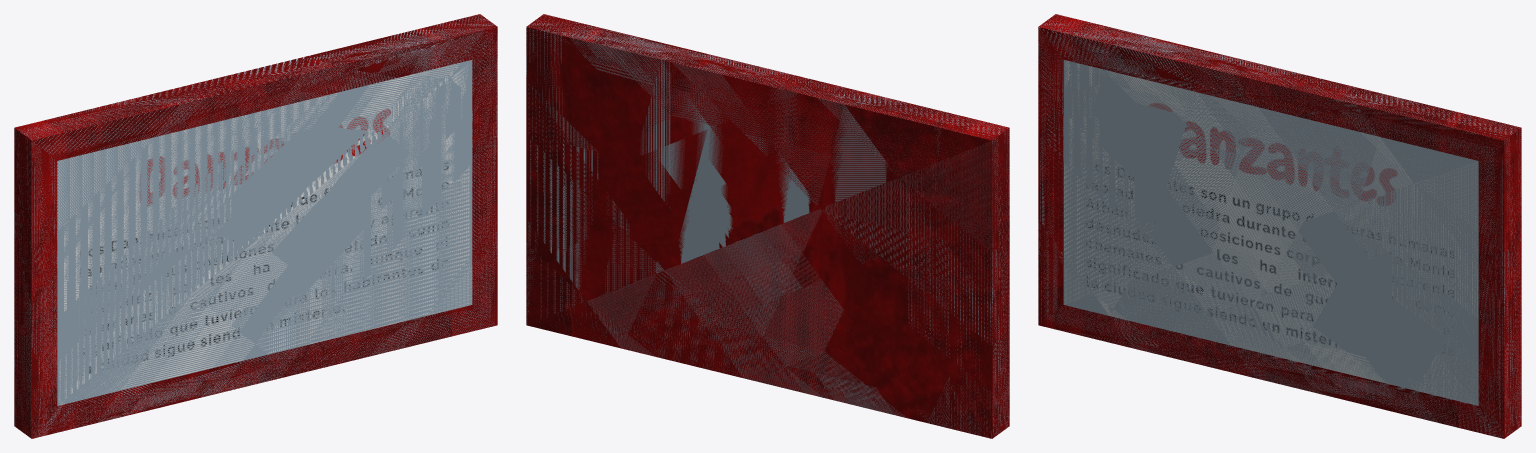
The model's file is danzantes.obj.
3 renders of one model, left to right at view 1: azimuth 30°, elevation 25°; view 2: azimuth 150°, elevation 25°; view 3: azimuth 330°, elevation 25°, orthographic.
Parts seen in each view (by area): view 1: Mesh1 Model; view 2: Mesh1 Model; view 3: Mesh1 Model.
Part boxes in pixels (left/top/right/bottom): Mesh1 Model: left=14, top=14, right=497, bottom=438; Mesh1 Model: left=526, top=14, right=1009, bottom=438; Mesh1 Model: left=1038, top=14, right=1521, bottom=438.
Size of the model in its own units: 86 by 52.62 by 5.62.
